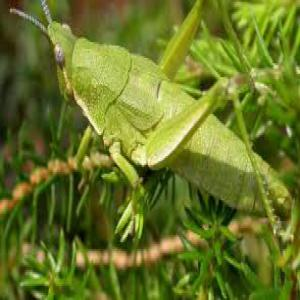locust: (44, 7, 300, 221)
